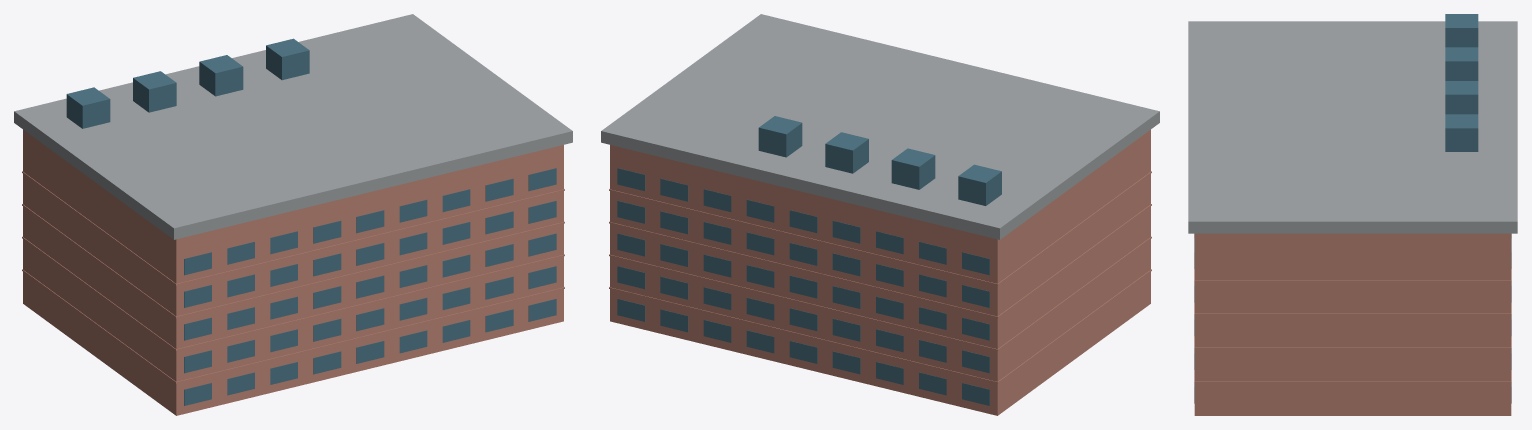
3 renders of one model, left to right at view 1: azimuth 30°, elevation 25°; view 2: azimuth 150°, elevation 25°; view 3: azimuth 270°, elevation 25°, orthographic. The views are drawn at different scales.
Parts seen in each view (by area): view 1: worldgen; view 2: worldgen; view 3: worldgen.
Part boxes in pixels (x1,y1,x2,y2): worldgen: [14, 14, 572, 415]; worldgen: [601, 14, 1159, 415]; worldgen: [1188, 14, 1517, 415].
Bounding box in the file's own units: 72 × 37 × 50.
